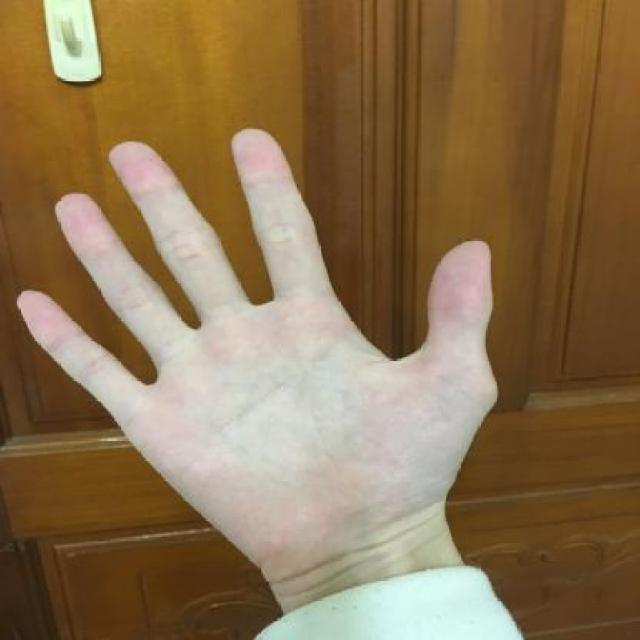Hand: (12, 122, 500, 558)
